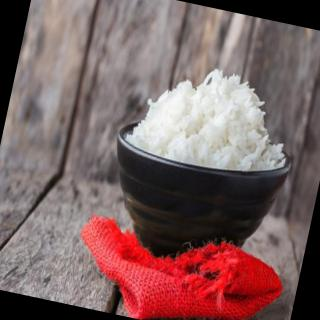Nasi: (122, 50, 303, 185)
